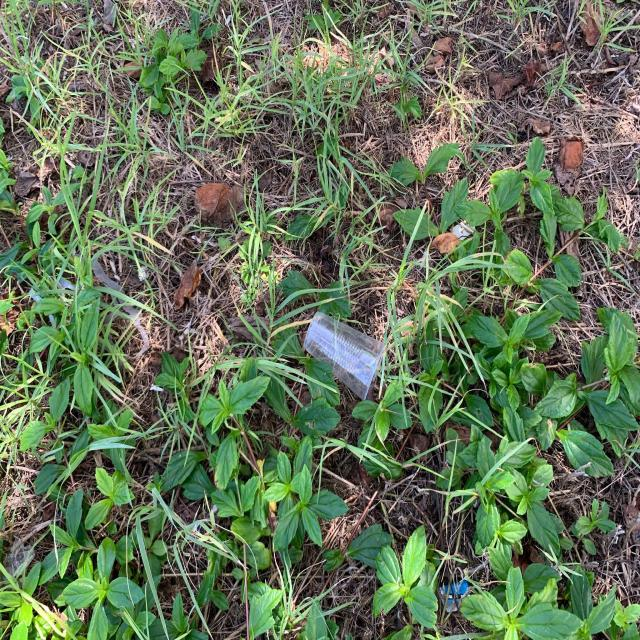litter: (304, 311, 385, 401), (1, 536, 35, 582), (439, 580, 471, 612)
